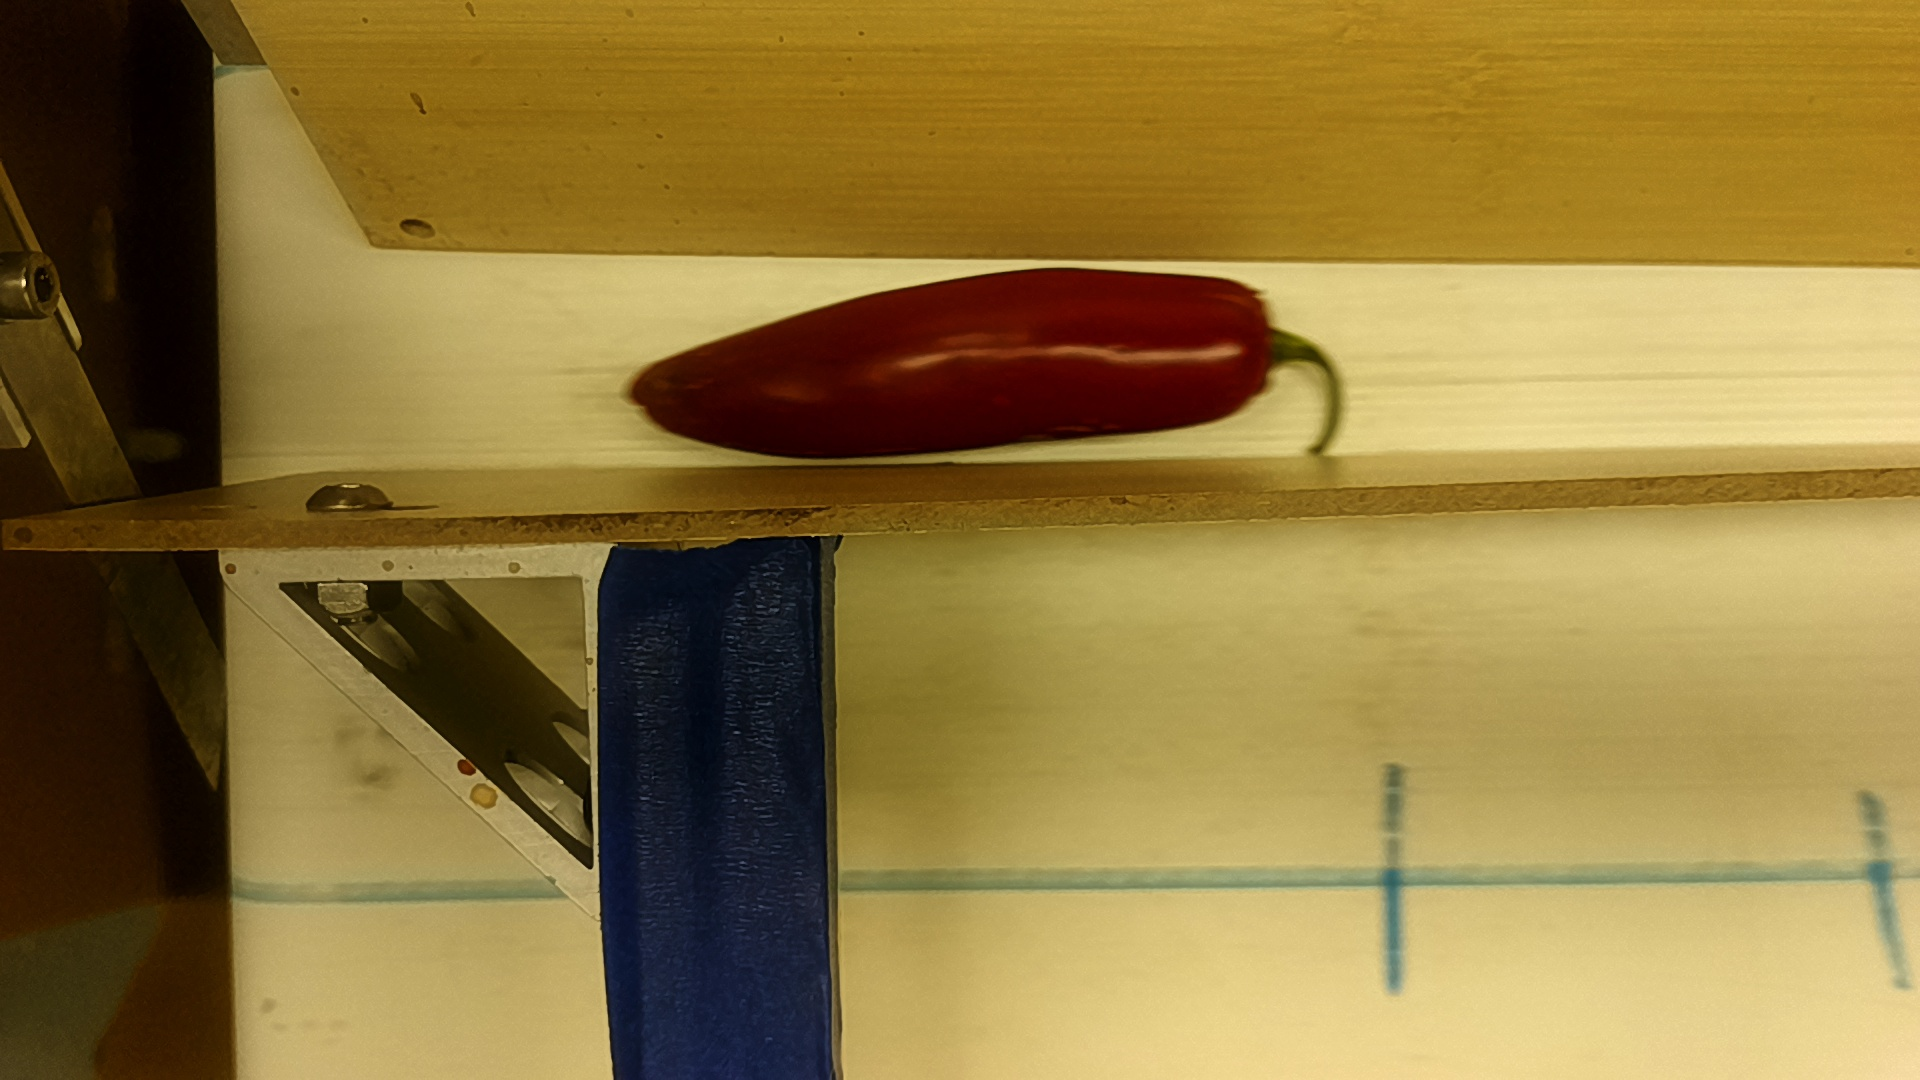Cut Point: (1218, 268, 1288, 422)
